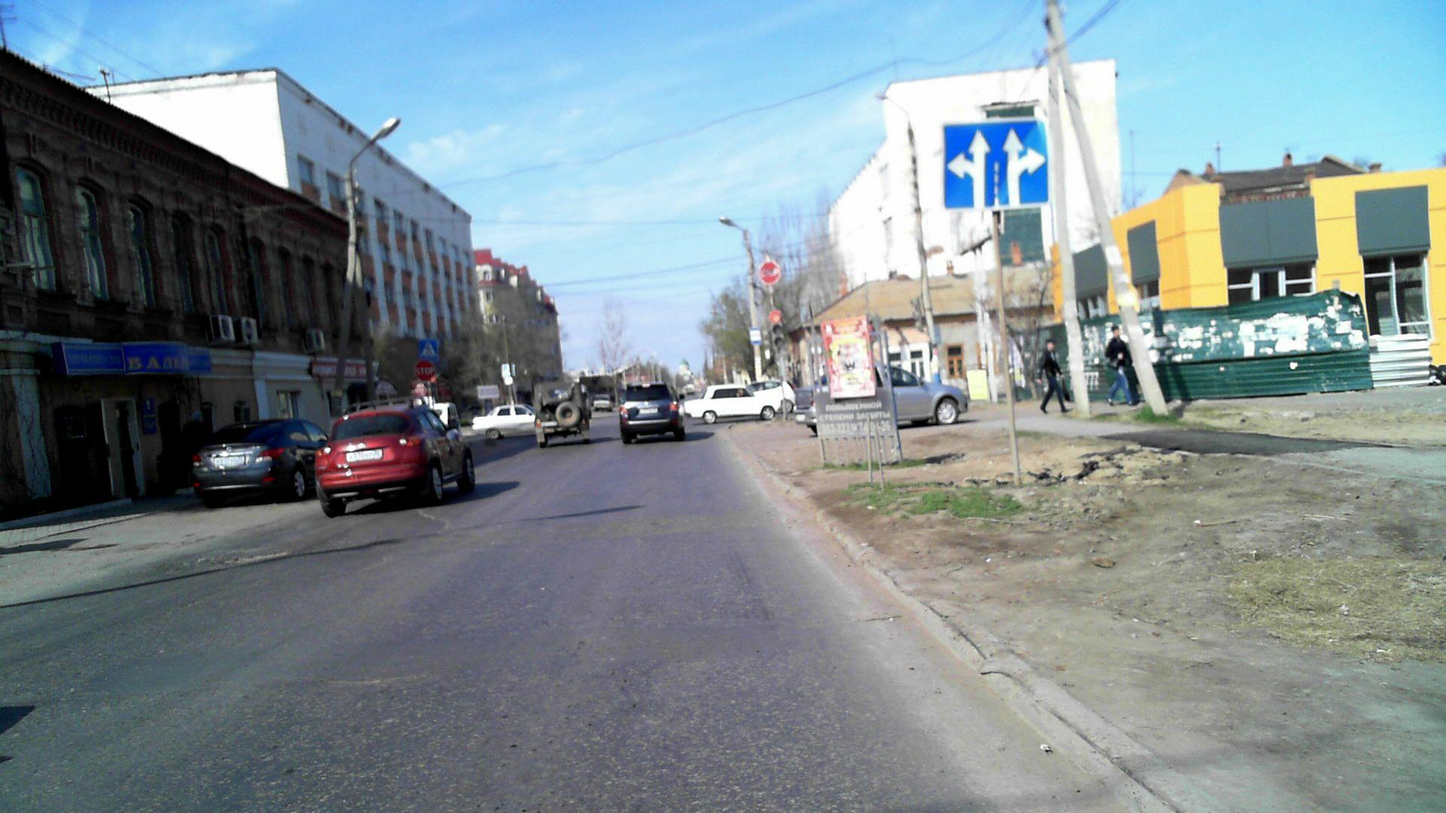obstructed_road_sign: (943, 118, 1050, 207), (757, 259, 782, 286)
road_sign: (419, 338, 440, 361), (415, 360, 436, 382)
traffic light: (767, 308, 789, 352)
